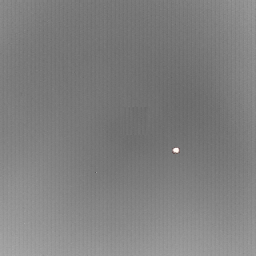Target: (171, 146, 180, 155)
